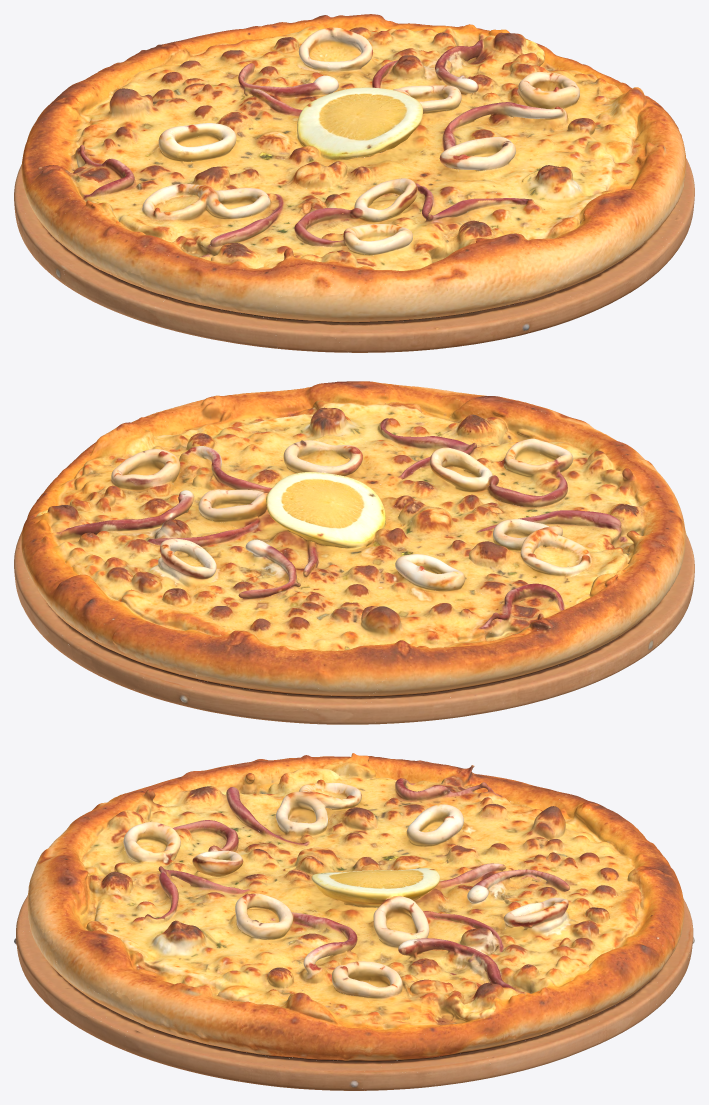
File: pizza11.glb
3 views of the same model, one above another, from view 1: azimuth 30°, elevation 25°; view 2: azimuth 150°, elevation 25°; view 3: azimuth 270°, elevation 25° (orthographic).
Visible parts, largest first — view 1: tripo_node_ee7d820e-5f33-4656-a4d9-87159db6f833; view 2: tripo_node_ee7d820e-5f33-4656-a4d9-87159db6f833; view 3: tripo_node_ee7d820e-5f33-4656-a4d9-87159db6f833.
Boxes of the visible parts, x1,y1,x2,y2 form: tripo_node_ee7d820e-5f33-4656-a4d9-87159db6f833: [14, 14, 694, 352]; tripo_node_ee7d820e-5f33-4656-a4d9-87159db6f833: [14, 381, 694, 724]; tripo_node_ee7d820e-5f33-4656-a4d9-87159db6f833: [14, 753, 694, 1090].
Size of the model in its own units: 0.9803 by 0.1443 by 0.9834.
Materials: 1 (1 with a texture image).
